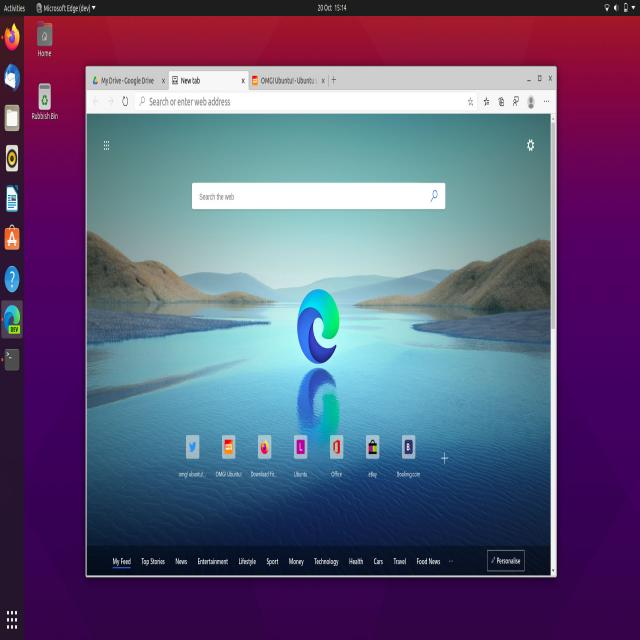button: (212, 428, 246, 482), (86, 68, 168, 90), (249, 428, 281, 484), (286, 428, 317, 484), (176, 429, 208, 483), (358, 428, 388, 483), (394, 428, 424, 482), (249, 70, 329, 90), (168, 72, 248, 92), (323, 428, 352, 483), (30, 77, 60, 129), (33, 18, 58, 64), (1, 57, 24, 97), (1, 137, 23, 177), (1, 260, 23, 300), (1, 178, 22, 219), (1, 97, 23, 136), (1, 220, 23, 259), (1, 18, 24, 55), (1, 600, 23, 638), (552, 122, 556, 329), (1, 300, 22, 338), (1, 341, 22, 379), (487, 550, 525, 570), (194, 552, 232, 570), (311, 552, 343, 571), (139, 552, 168, 570), (413, 552, 442, 570), (109, 551, 135, 571), (235, 552, 259, 570), (262, 552, 284, 571), (346, 552, 367, 570), (286, 552, 307, 570), (172, 552, 191, 571), (438, 446, 452, 471), (390, 553, 410, 570), (100, 134, 113, 158), (524, 135, 538, 157), (371, 552, 387, 570), (119, 92, 132, 110), (90, 92, 102, 110), (105, 92, 117, 110), (329, 71, 340, 89), (510, 94, 522, 110), (496, 94, 508, 109), (446, 552, 456, 570), (481, 94, 492, 110), (541, 94, 552, 109), (429, 188, 438, 204), (534, 71, 544, 85), (138, 94, 146, 109), (622, 2, 630, 15), (525, 71, 533, 84), (546, 71, 554, 84), (527, 95, 535, 108), (630, 2, 638, 14), (612, 2, 620, 14), (467, 96, 475, 108), (604, 2, 610, 14), (161, 76, 166, 86), (551, 566, 556, 576), (321, 76, 326, 85), (241, 77, 246, 86), (551, 114, 556, 122)
field: (192, 183, 446, 210), (135, 92, 478, 111)
